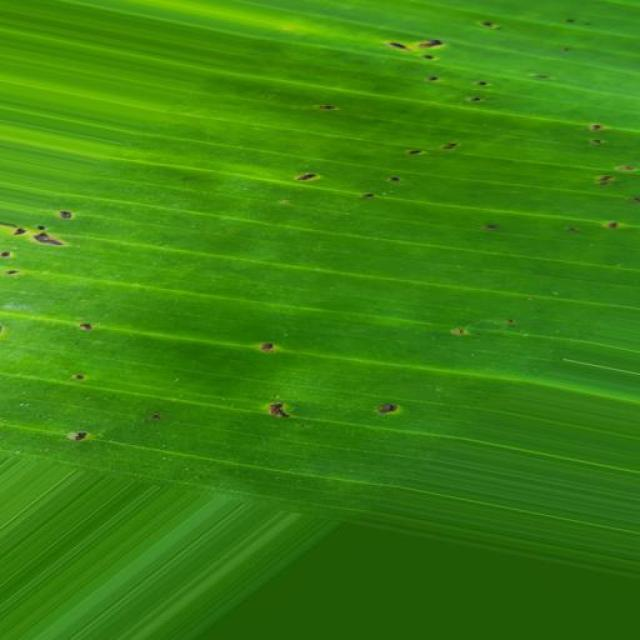Black_rot: (225, 325, 419, 445), (364, 18, 567, 124), (289, 124, 497, 212), (0, 174, 97, 292), (60, 312, 128, 461), (561, 108, 633, 247), (431, 296, 541, 362)
